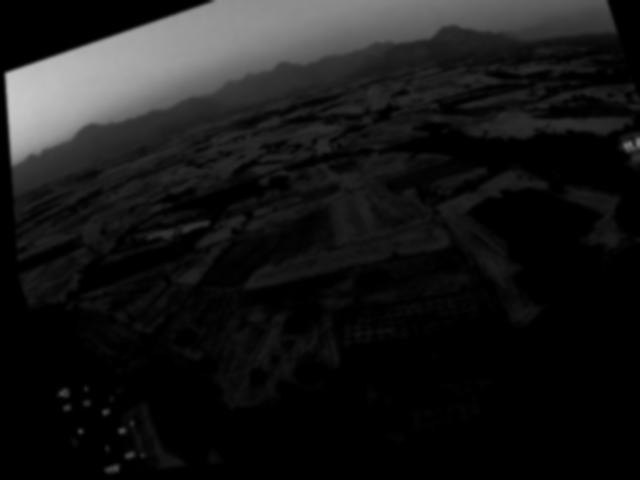hedef: (135, 212, 214, 265)
